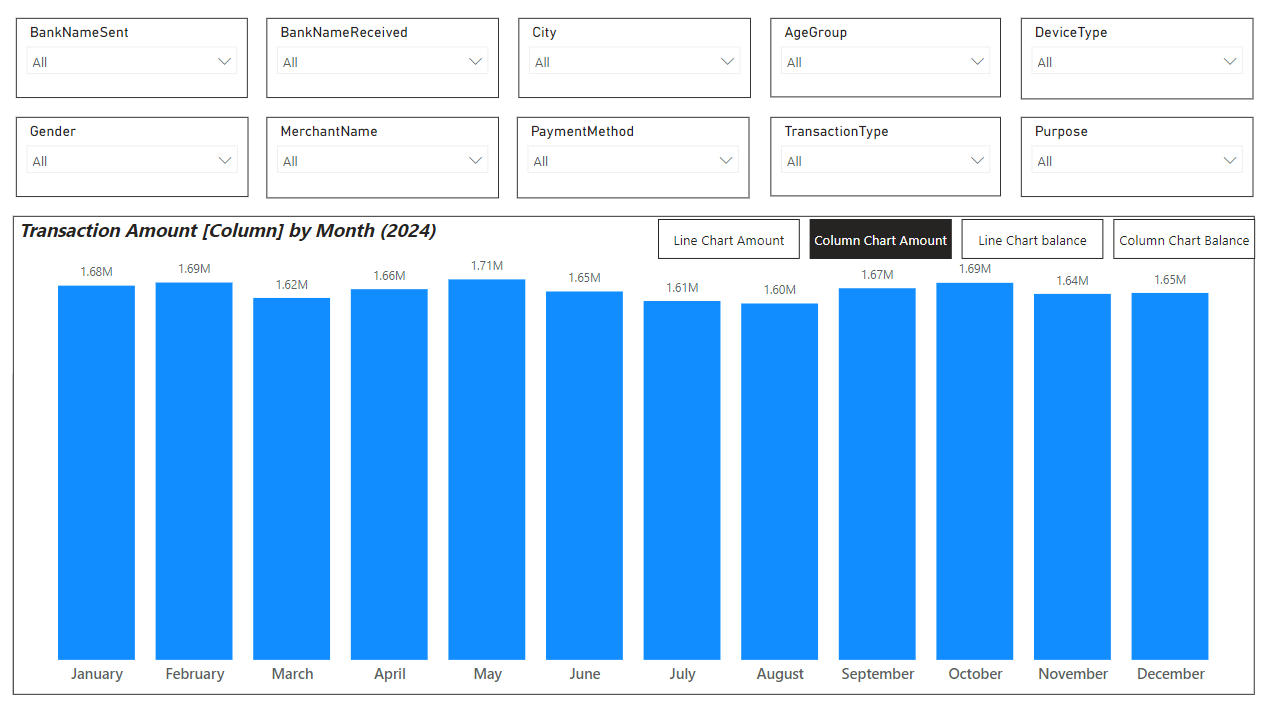

What the dashboard file says about the page in this screenshot:
{"tool":"powerbi","page":{"name":"Page 1","canvas":[1280,720],"ordinal":0},"visuals":[{"type":"slicer","fields":{"Values":["UPI Transactions.BankNameSent"]},"box":[20.8,20.8,232,80],"z":0},{"type":"slicer","fields":{"Values":["UPI Transactions.BankNameReceived"]},"box":[272,20.8,232.4,80],"z":1000},{"type":"slicer","fields":{"Values":["UPI Transactions.DeviceType"]},"box":[1028,20.8,232.4,81.3],"z":2000},{"type":"slicer","fields":{"Values":["UPI Transactions.AgeGroup"]},"box":[776,20.8,230.6,79.4],"z":3000},{"type":"slicer","fields":{"Values":["UPI Transactions.City"]},"box":[524,20.8,232.4,80],"z":4000},{"type":"slicer","fields":{"Values":["UPI Transactions.Gender"]},"box":[20.8,120,232.4,80],"z":5000},{"type":"slicer","fields":{"Values":["UPI Transactions.MerchantName"]},"box":[272.1,120,232.4,81.3],"z":6000},{"type":"slicer","fields":{"Values":["UPI Transactions.Purpose"]},"box":[1028,120,232.4,80],"z":7000},{"type":"slicer","fields":{"Values":["UPI Transactions.TransactionType"]},"box":[776.7,120,230.6,79.4],"z":8000},{"type":"slicer","fields":{"Values":["UPI Transactions.PaymentMethod"]},"box":[523.5,120,232.4,81.3],"z":9000},{"type":"columnChart","title":"Transaction Amount [Column] by Month (2024)","fields":{"Category":["UPI Transactions.TransactionDate.Variation.Date Hierarchy.Month"],"Y":["Sum(UPI Transactions.Amount)"]},"box":[18.3,219.4,1243.4,479.5],"z":11000},{"type":"bookmarkNavigator","box":[663.3,221.7,600,40],"z":14500}]}

Visuals, with their boxes in screenshot pixels (x1, y1, x2, y2), scaled from the page's 1280x720 canvas onto the 1263x711 screenshot:
slicer - UPI Transactions.BankNameSent: 21 21 249 100
slicer - UPI Transactions.BankNameReceived: 268 21 498 100
slicer - UPI Transactions.DeviceType: 1014 21 1244 101
slicer - UPI Transactions.AgeGroup: 766 21 993 99
slicer - UPI Transactions.City: 517 21 746 100
slicer - UPI Transactions.Gender: 21 118 250 198
slicer - UPI Transactions.MerchantName: 268 118 498 199
slicer - UPI Transactions.Purpose: 1014 118 1244 198
slicer - UPI Transactions.TransactionType: 766 118 994 197
slicer - UPI Transactions.PaymentMethod: 517 118 746 199
"Transaction Amount [Column] by Month (2024)" columnChart: 18 217 1245 690
bookmarkNavigator: 654 219 1247 258
